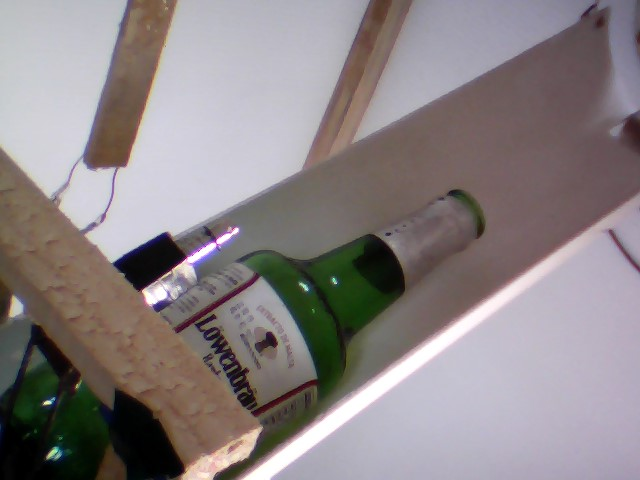vidrio: (185, 184, 502, 438)
